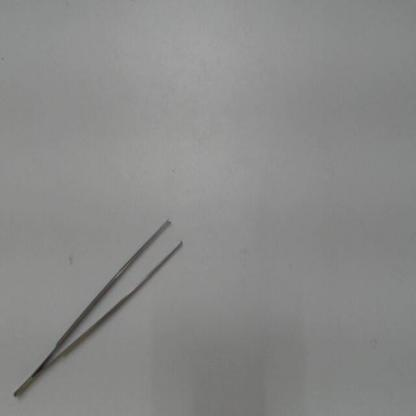Gillies Toothed Dissector: (6, 211, 193, 404)
